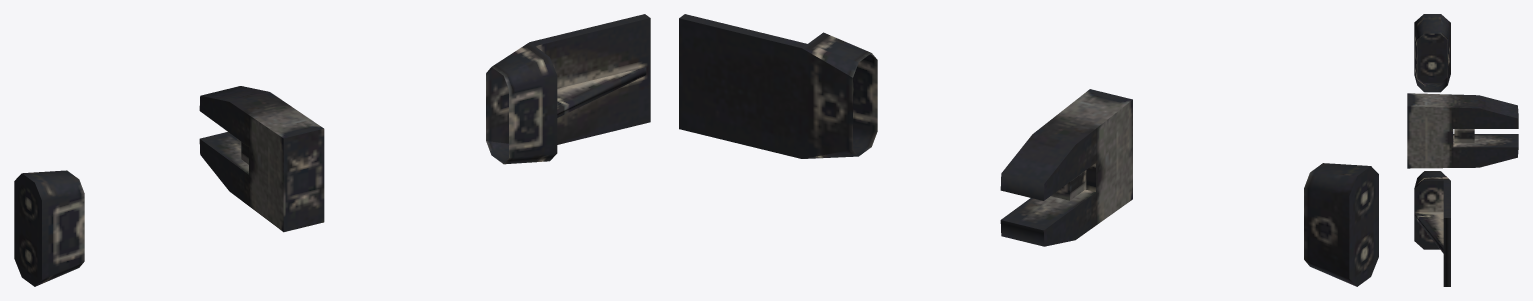
The model's file is right_01.glb.
3 renders of one model, left to right at view 1: azimuth 30°, elevation 25°; view 2: azimuth 150°, elevation 25°; view 3: azimuth 270°, elevation 25°, orthographic. The views are drawn at different scales.
Parts seen in each view (by area): view 1: set_0_group_0; view 2: set_0_group_0; view 3: set_0_group_0.
Part boxes in pixels (bbox=[...]): set_0_group_0: bbox=[14, 14, 650, 286]; set_0_group_0: bbox=[679, 14, 1378, 286]; set_0_group_0: bbox=[1407, 14, 1518, 286].
Bounding box in the file's own units: 0.7104 × 0.1123 × 0.164.
1 material, 1 textured.
